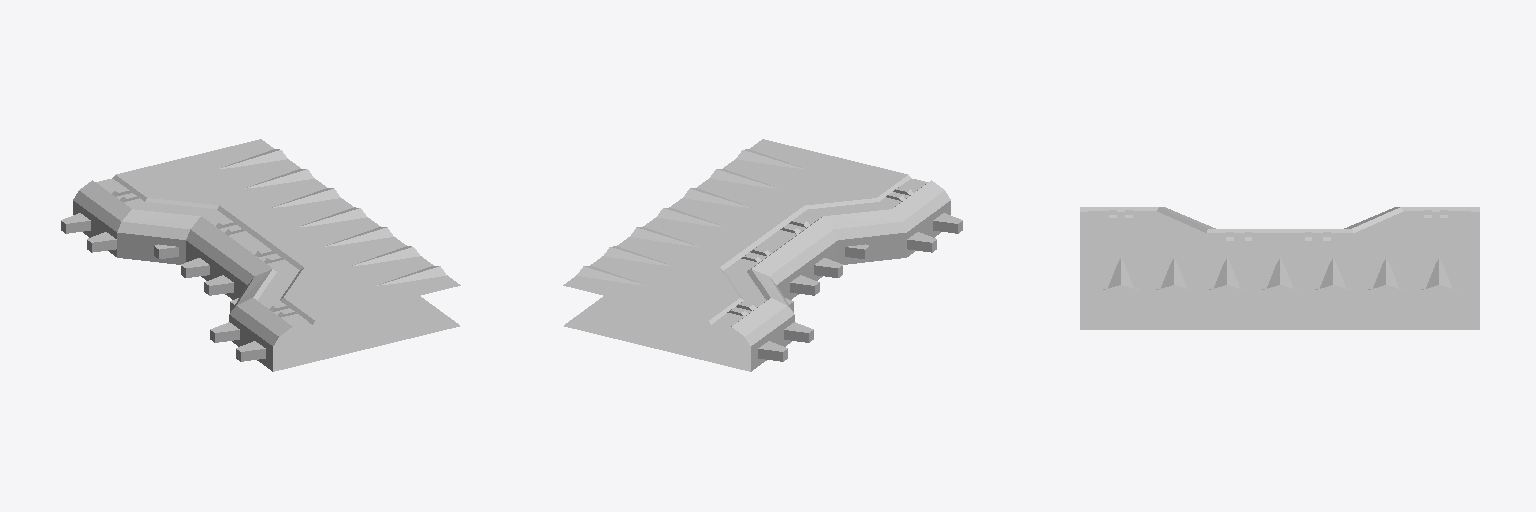
File: stg600_obj_hatchR.obj
3 views of the same model, side by side, from view 1: azimuth 30°, elevation 25°; view 2: azimuth 150°, elevation 25°; view 3: azimuth 270°, elevation 25° (orthographic).
Parts seen in each view (by area): view 1: polygon0, polygon1, polygon3, polygon2; view 2: polygon0, polygon1, polygon3, polygon2; view 3: polygon0, polygon3, polygon2, polygon1.
Part boxes in pixels (bbox=[...]): polygon0: bbox=[73, 139, 460, 371]; polygon1: bbox=[61, 180, 297, 361]; polygon3: bbox=[220, 149, 446, 285]; polygon2: bbox=[100, 181, 307, 324]; polygon0: bbox=[563, 139, 950, 371]; polygon1: bbox=[727, 180, 962, 361]; polygon3: bbox=[577, 149, 803, 285]; polygon2: bbox=[717, 181, 923, 324]; polygon0: bbox=[1080, 207, 1479, 329]; polygon3: bbox=[1103, 258, 1457, 290]; polygon2: bbox=[1088, 211, 1470, 240]; polygon1: bbox=[1109, 207, 1447, 240].
Size of the model in its own units: 32.01 by 6.54 by 52.76.